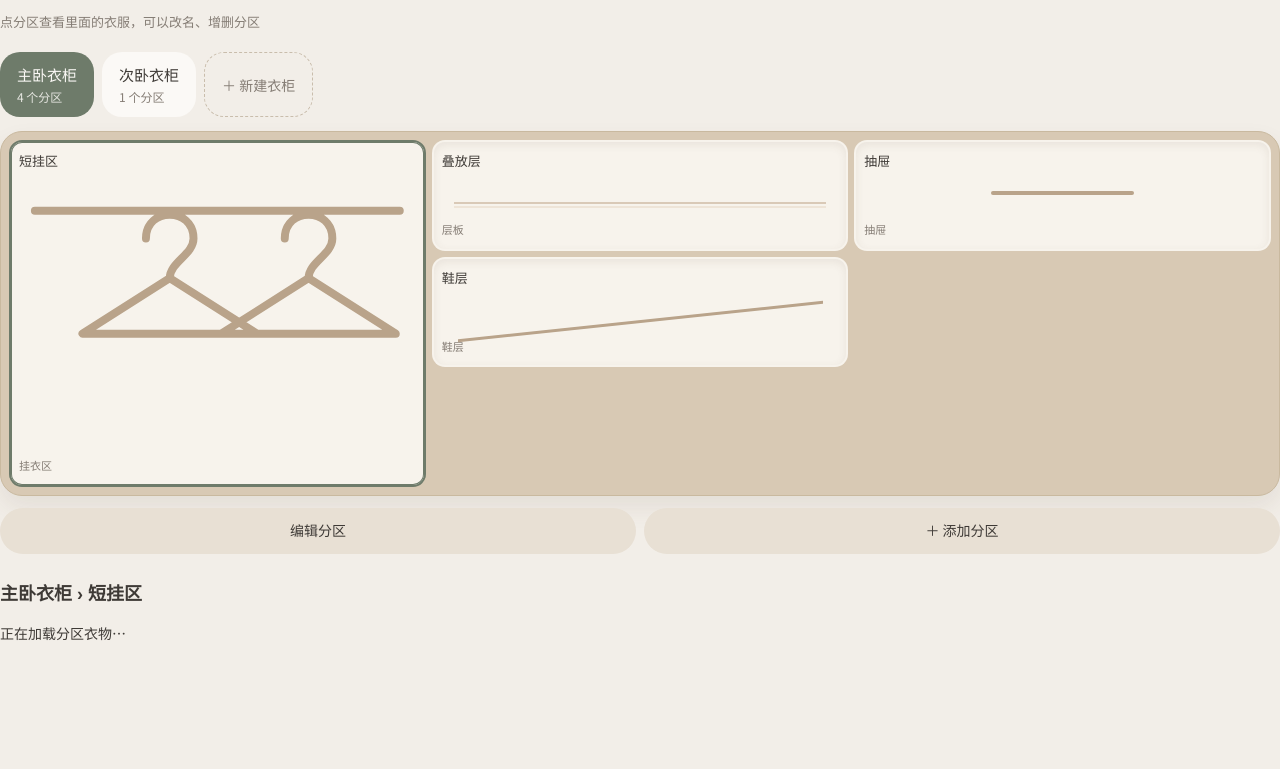
Scenario: invalidates pending zone garments when a location mutation begins and reloads after saving
Click the button "编辑分区": point(318, 531) [0,508,636,554]
(page scrolled)
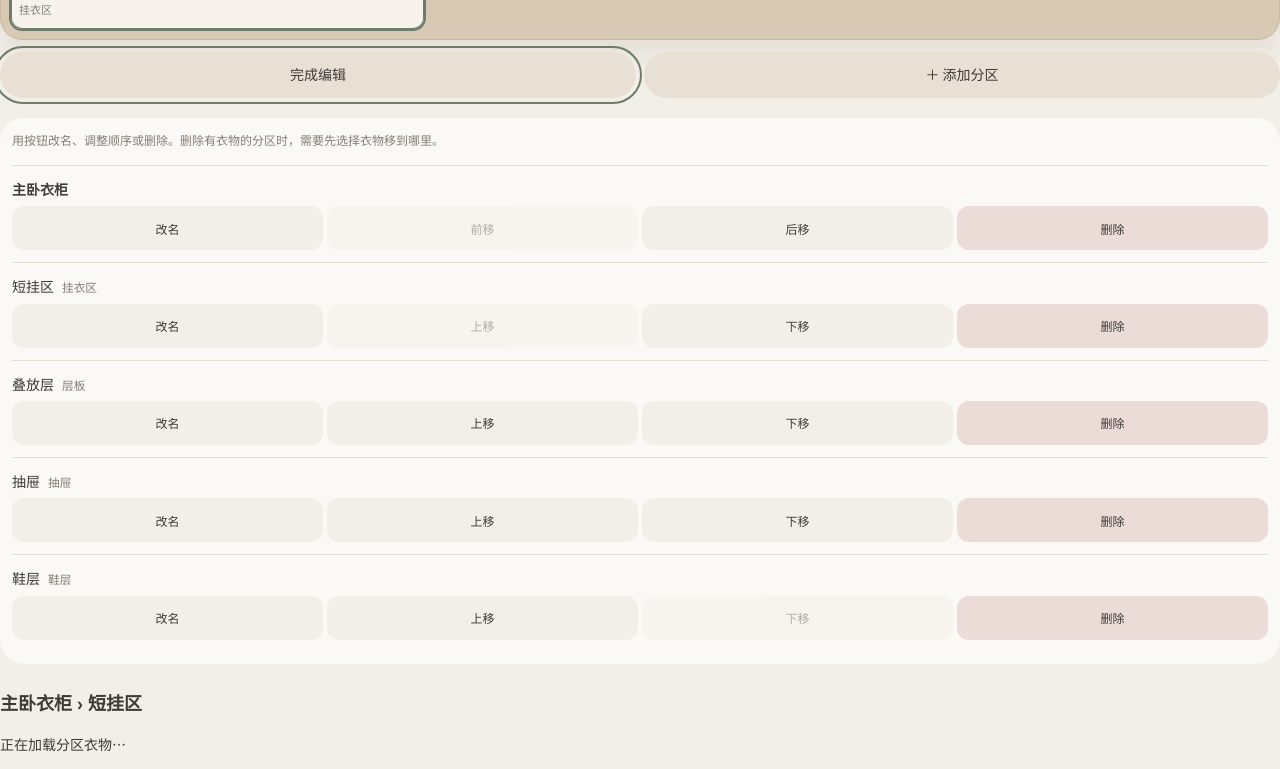
Click the button with aria-label "改名短挂区": point(168, 326) [12,304,323,348]
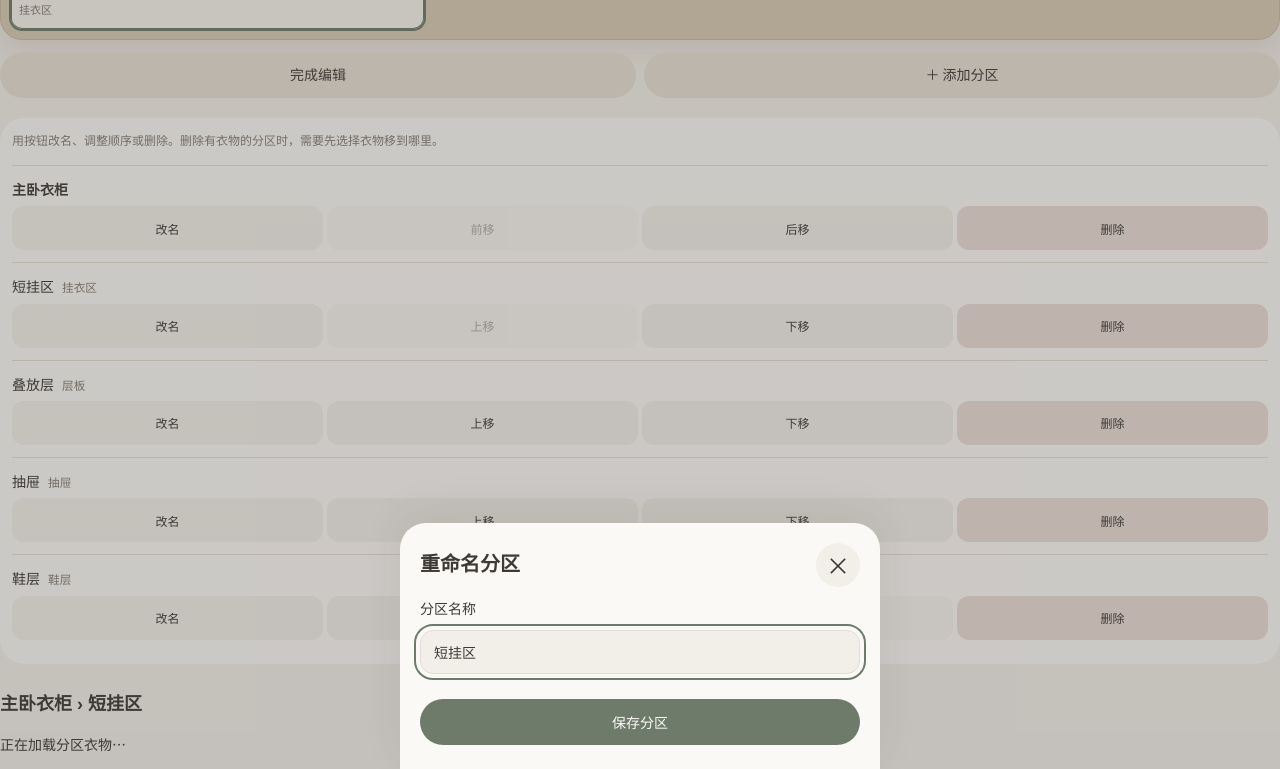
Replace the text in the field labelled "分区名称" with "外套挂区": point(640, 652) [420,630,860,674]
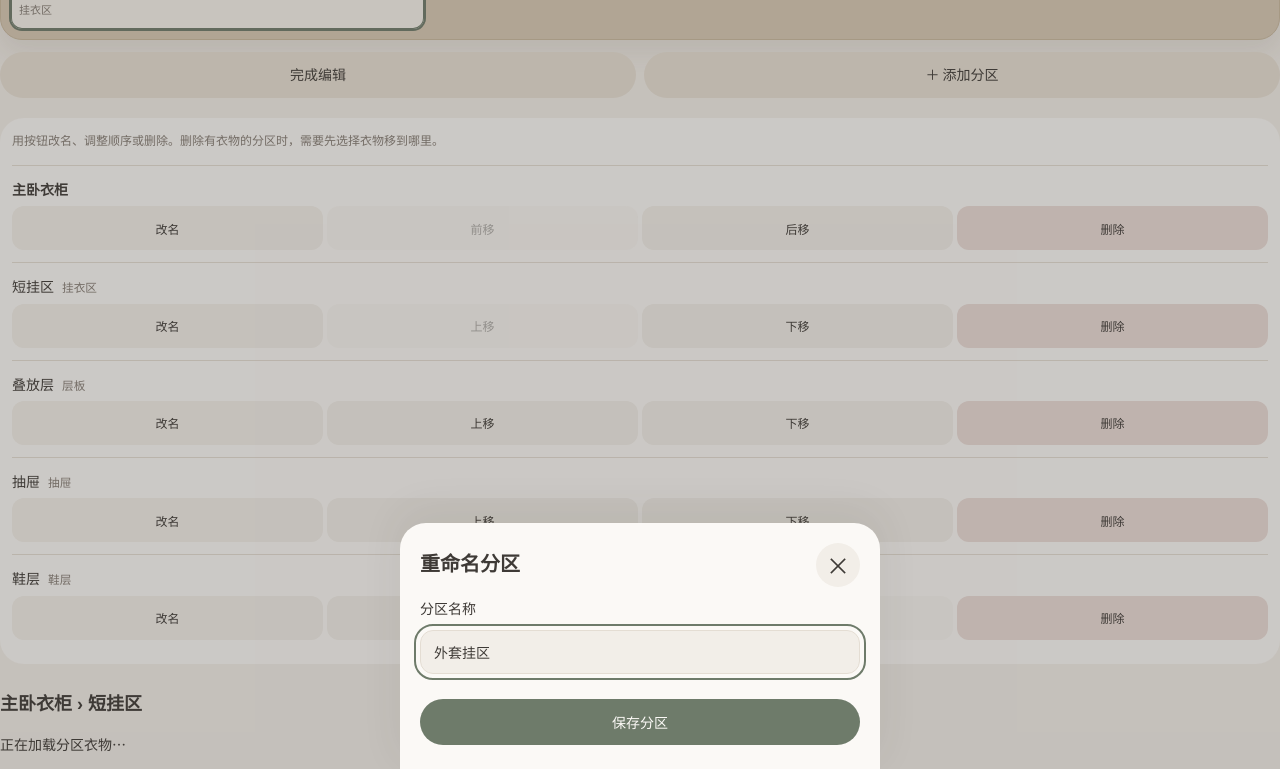
Click the button "保存分区": point(640, 722) [420,699,860,745]
(page scrolled)
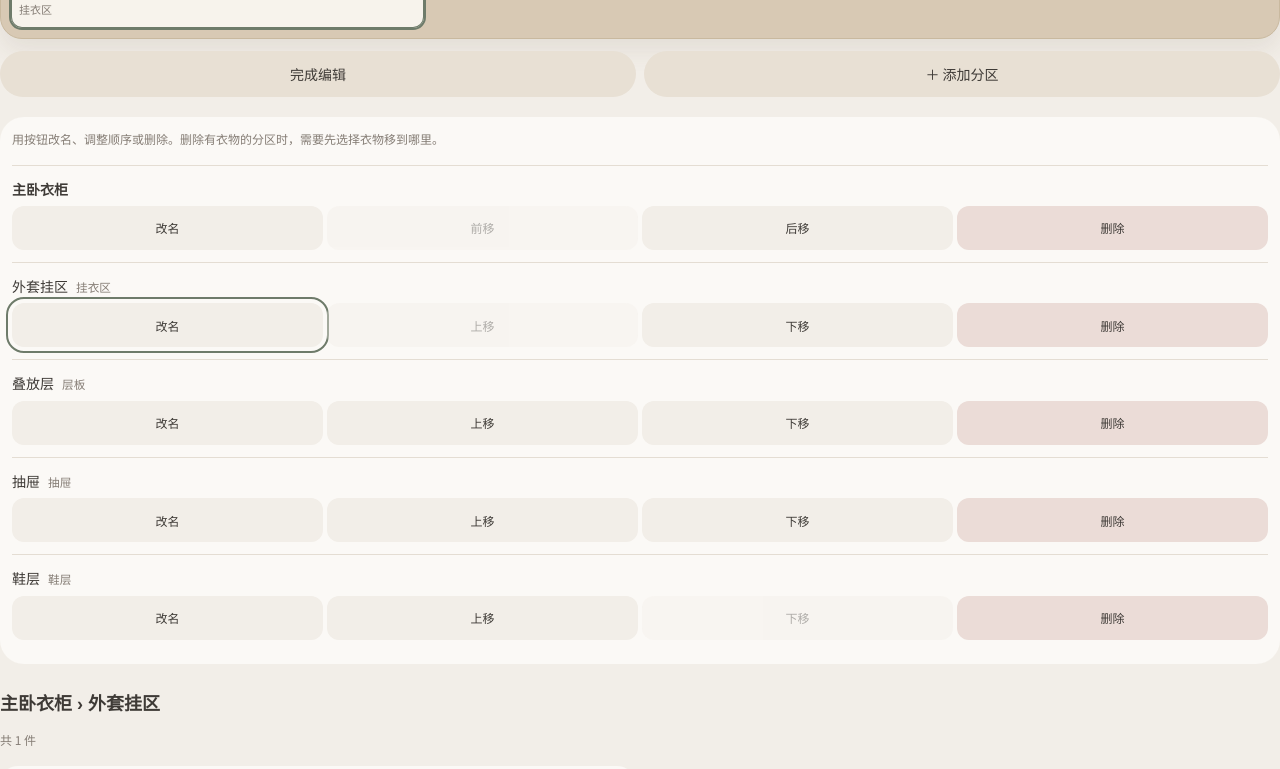
Expected: the heading "主卧衣柜 › 外套挂区" is shown, [0,694,160,714]
